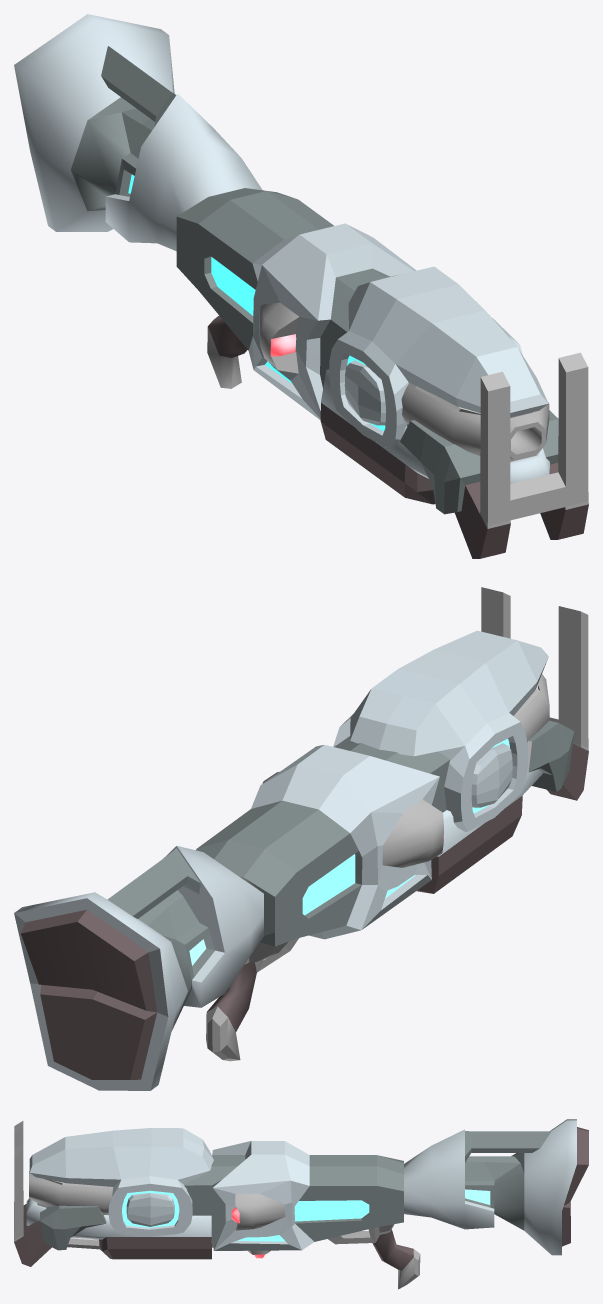
File: Dreadbreaker.fbx
The picture shows the model from 3 angles, top to bottom: view 1: azimuth 30°, elevation 25°; view 2: azimuth 150°, elevation 25°; view 3: azimuth 270°, elevation 25°; orthographic projection. The views are drawn at different scales.
Parts seen in each view (by area): view 1: Dreadbreaker; view 2: Dreadbreaker; view 3: Dreadbreaker.
Part boxes in pixels (x1,y1,x2,y2): Dreadbreaker: (14, 14, 588, 558); Dreadbreaker: (14, 587, 588, 1090); Dreadbreaker: (14, 1119, 588, 1289).
Bounding box in the file's own units: 1.42 × 2.08 × 6.46.
